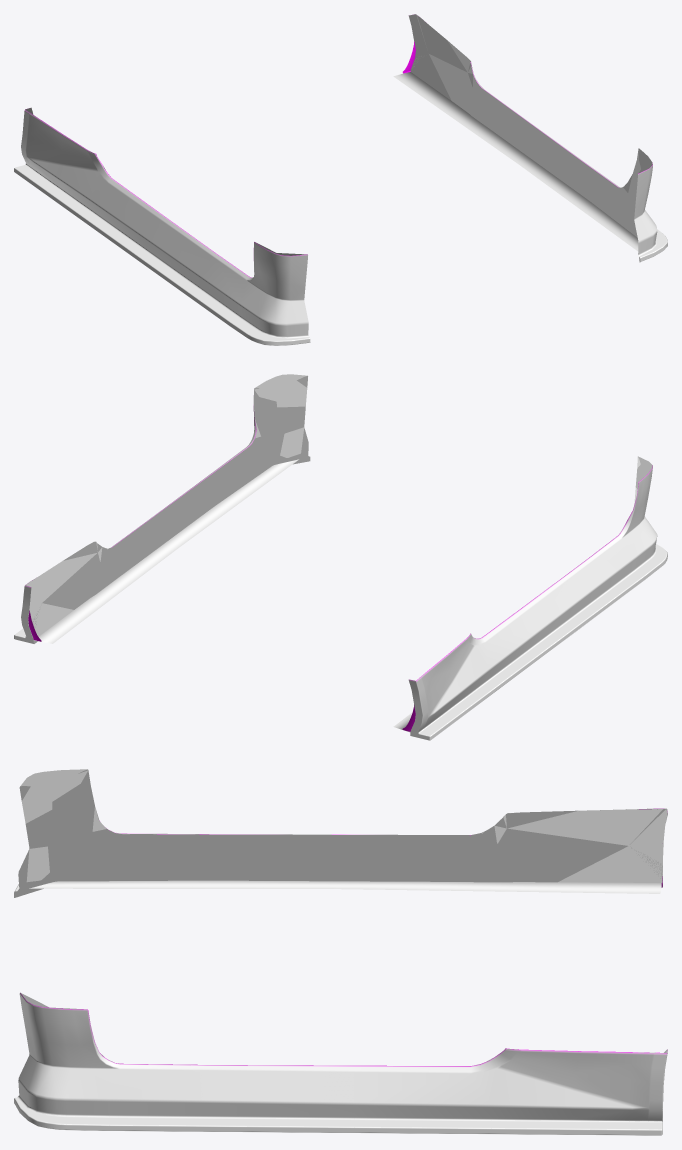
The model's file is Car_Nissan_SkylineGTRVspecR34_1999_Skirts_SetE_AltA.fbx.
3 renders of one model, top to bottom at view 1: azimuth 30°, elevation 25°; view 2: azimuth 150°, elevation 25°; view 3: azimuth 270°, elevation 25°, orthographic. The views are drawn at different scales.
Parts seen in each view (by area): view 1: Skirts 6; view 2: Skirts 6; view 3: Skirts 6.
Part boxes in pixels (<box>): Skirts 6: <box>14,14,667,345</box>; Skirts 6: <box>14,374,667,740</box>; Skirts 6: <box>14,769,667,1135</box>.
Size of the model in its own units: 1.84 by 0.384 by 1.95.
